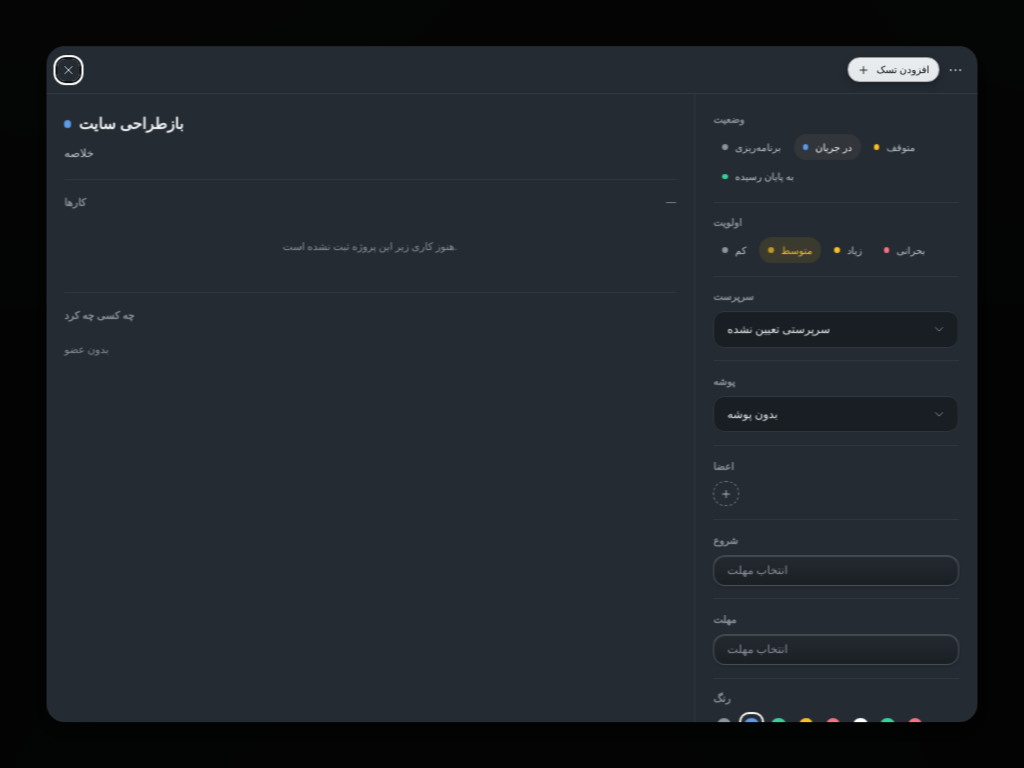
Scenario: the project is edited in its own panel (2026-09-08) › «ویرایش» makes the name and the summary writable HERE, and opens no second window
The image size is (1024, 768).
Expected: the heading "بازطراحی سایت" is shown, [79,112,184,136]
Click the button named "بیشتر". click: (956, 70)
box: [945,59,967,81]
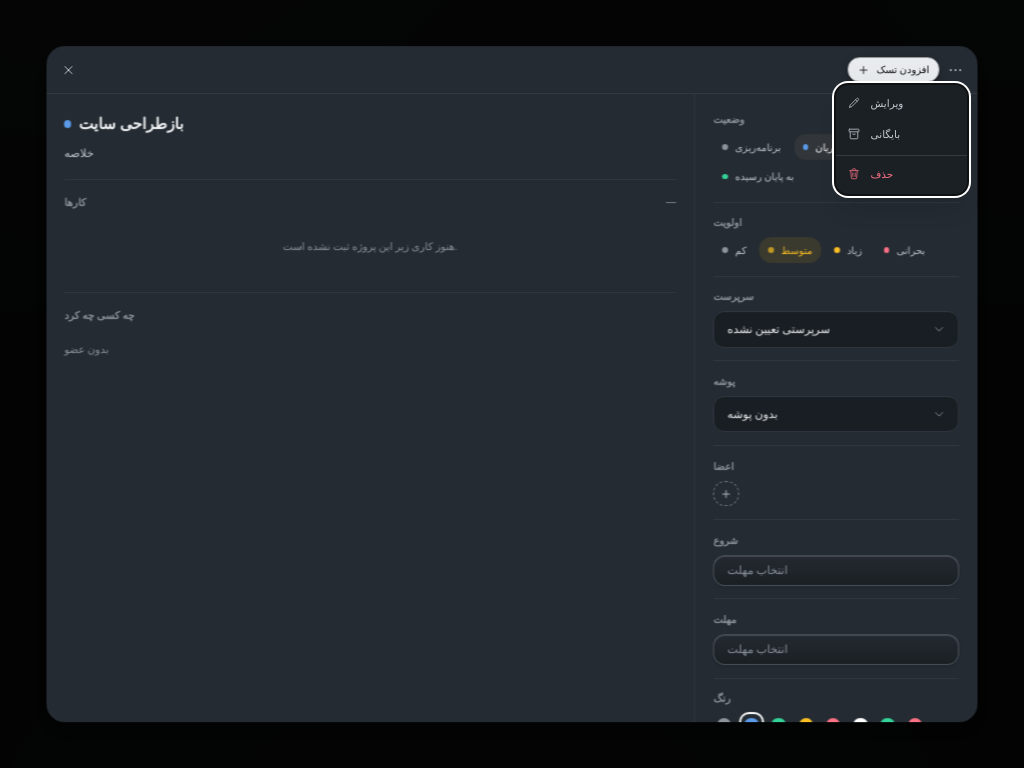
Click the menu item "ویرایش". click: (875, 103)
box: [847,96,903,110]
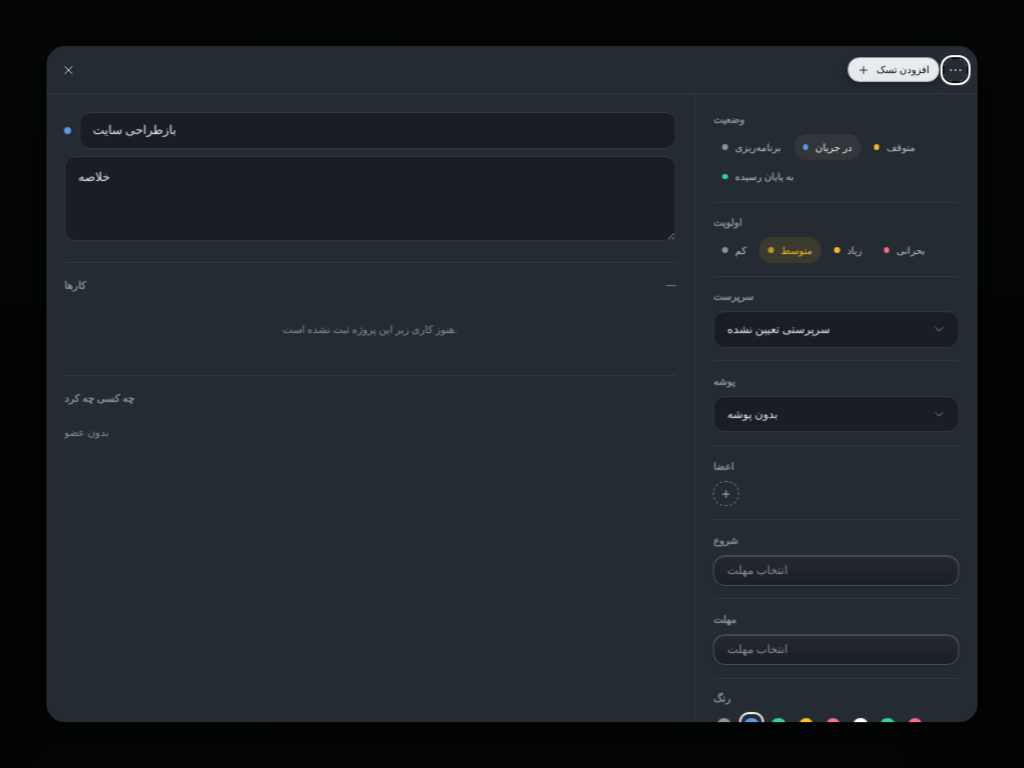
Expected: the field named "نام پروژه" holds "بازطراحی سایت", [79,112,676,149]
Expected: the text box named "توضیح کوتاه" holds "خلاصه", [65,156,676,241]
